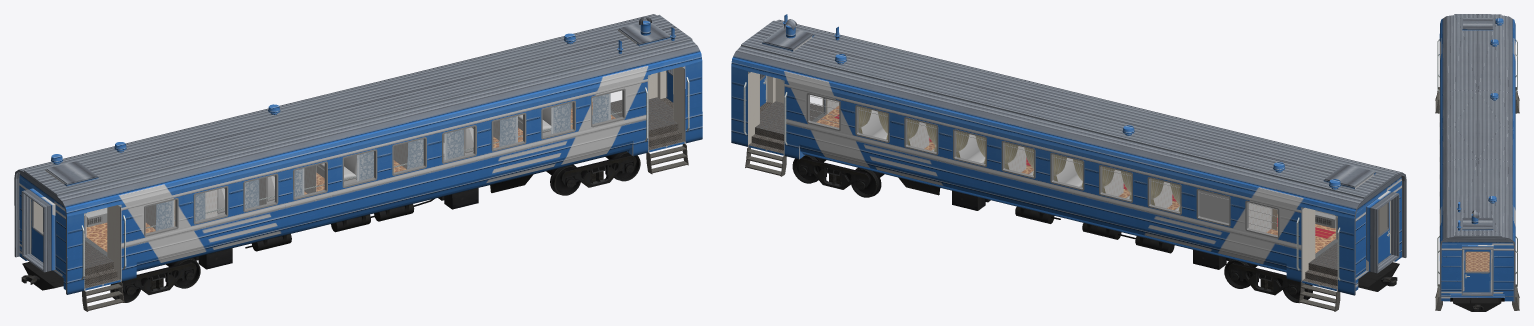
Rendered from Train02vip_1Interior.FBX.
The picture shows the model from 3 angles, left to right: view 1: azimuth 30°, elevation 25°; view 2: azimuth 150°, elevation 25°; view 3: azimuth 270°, elevation 25°; orthographic projection. The views are drawn at different scales.
Parts seen in each view (by area): view 1: Train02vip_1Interior, Train02vip_Window, Train02vip_1Wheels, Train02vip_Curtain03f, Train02vip_Windows, Train02vip_Wood01a, Train02vip_Bench, Train02vip_Stairs, Train02vip_1Interiordetail, Train02vip_1Wheel03; view 2: Train02vip_1Interior, Train02vip_Window, Train02vip_1Wheels, Train02vip_Windows, Train02vip_Curtain01c, Train02vip_Wood01a, Train02vip_Stairs, Train02vip_Bench, Train02vip_Curtain05b, Train02vip_1Interiordetail, Train02vip_1Wheel03, Train02vip_Chrome; view 3: Train02vip_1Interior, Train02vip_1Wheels, Train02vip_Stairs, Train02vip_Doorglass, Train02vip_1Interiordetail, Train02vip_Windows.
Part boxes in pixels (x1,y1,x2,y2): Train02vip_1Interior: (14,14,702,294); Train02vip_Window: (146,91,622,233); Train02vip_1Wheels: (21,154,636,294); Train02vip_Curtain03f: (155,93,610,230); Train02vip_Windows: (144,88,625,236); Train02vip_Wood01a: (145,120,499,229); Train02vip_Bench: (217,108,551,215); Train02vip_Stairs: (82,143,688,311); Train02vip_1Interiordetail: (51,17,675,164); Train02vip_1Wheel03: (546,164,581,195); Train02vip_1Interior: (731,19,1406,295); Train02vip_Window: (810,95,1277,234); Train02vip_1Wheels: (796,157,1399,295); Train02vip_Windows: (806,93,1279,238); Train02vip_Curtain01c: (858,107,1180,211); Train02vip_Wood01a: (909,122,1271,232); Train02vip_Stairs: (745,147,1340,311); Train02vip_Bench: (861,110,1179,211); Train02vip_Curtain05b: (1199,190,1229,223); Train02vip_1Interiordetail: (783,14,1340,189); Train02vip_1Wheel03: (850,167,884,197); Train02vip_Chrome: (810,95,1277,230); Train02vip_1Interior: (1437,14,1517,302); Train02vip_1Wheels: (1453,298,1501,311); Train02vip_Stairs: (1435,87,1519,310); Train02vip_Doorglass: (1466,252,1488,271); Train02vip_1Interiordetail: (1457,18,1503,230); Train02vip_Windows: (1439,58,1439,233).
Size of the model in its own units: 1348 by 277 by 206.
